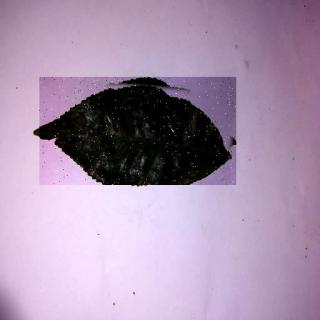Bird Eye Spot: (41, 78, 238, 186)
